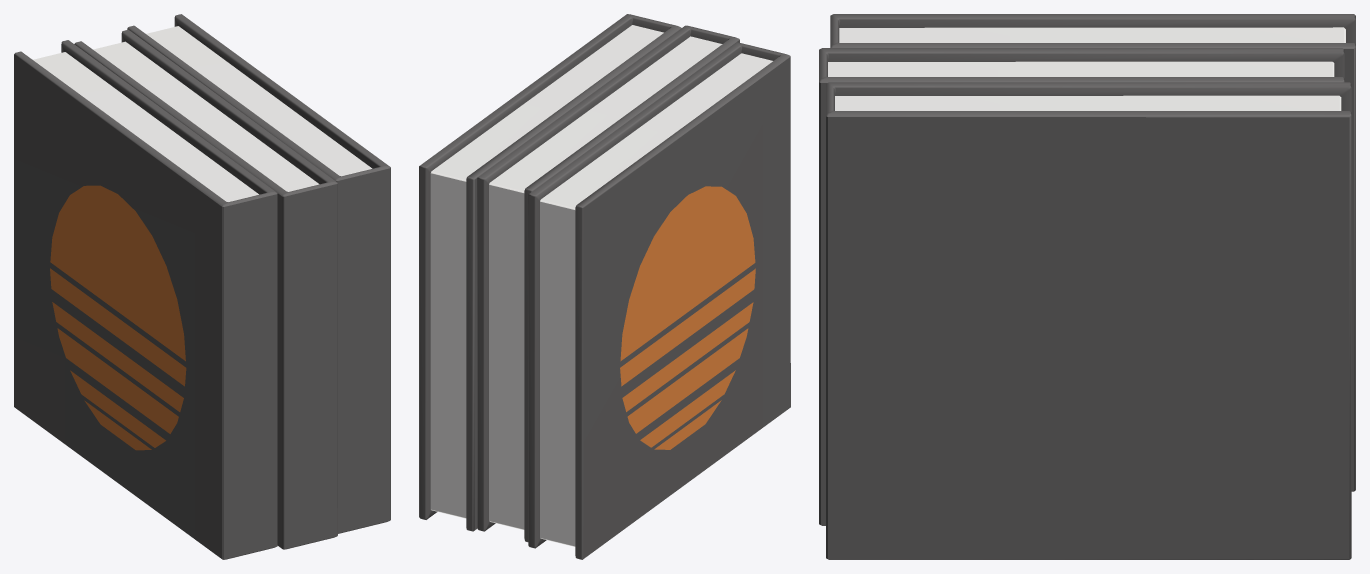
Rendered from Books_6.glb.
3 renders of one model, left to right at view 1: azimuth 30°, elevation 25°; view 2: azimuth 150°, elevation 25°; view 3: azimuth 270°, elevation 25°, orthographic. The views are drawn at different scales.
Visible parts, largest first — view 1: Books_6; view 2: Books_6; view 3: Books_6.
Part boxes in pixels (left/top/right/bottom): Books_6: left=14, top=14, right=390, bottom=559; Books_6: left=419, top=14, right=790, bottom=559; Books_6: left=819, top=14, right=1355, bottom=559.
Size of the model in its own units: 0.1457 by 0.2954 by 0.3228.
1 material, 1 textured.
